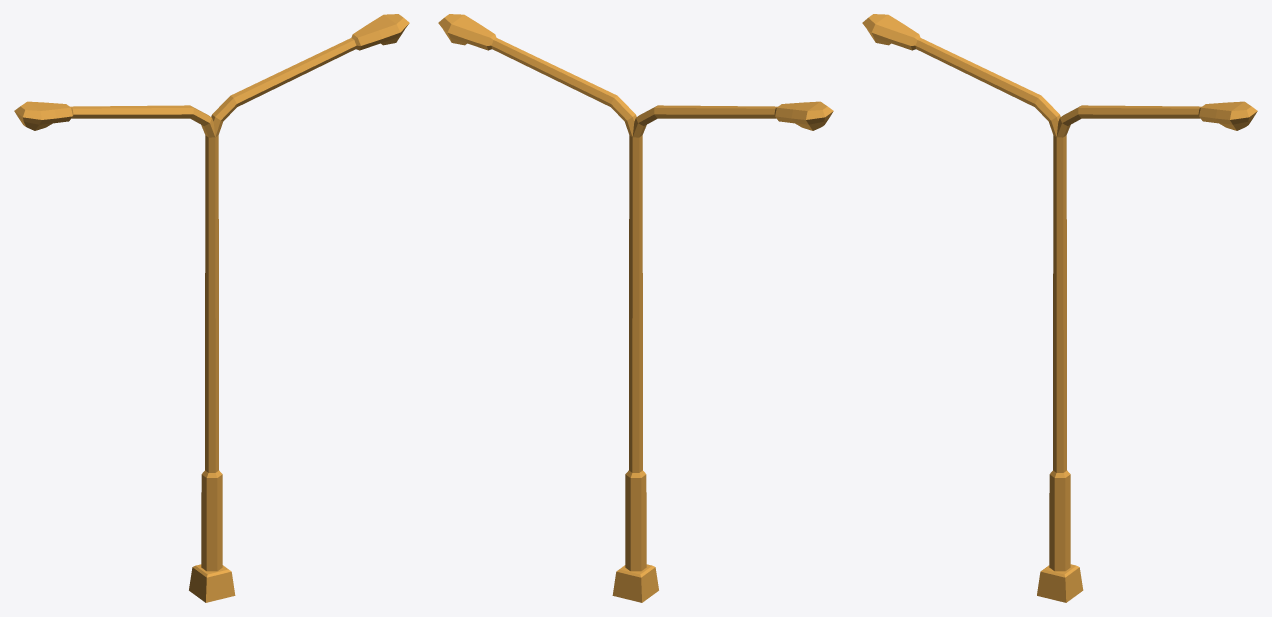
File: lamp-road-double.glb
3 renders of one model, left to right at view 1: azimuth 30°, elevation 25°; view 2: azimuth 150°, elevation 25°; view 3: azimuth 330°, elevation 25°, orthographic.
Parts seen in each view (by area): view 1: lamp-road-double; view 2: lamp-road-double; view 3: lamp-road-double.
Part boxes in pixels (x1,y1,x2,y2): lamp-road-double: (14,14,409,602); lamp-road-double: (438,14,833,602); lamp-road-double: (862,14,1257,602).
Bounding box in the file's own units: 7.21 × 9.46 × 0.5996.
